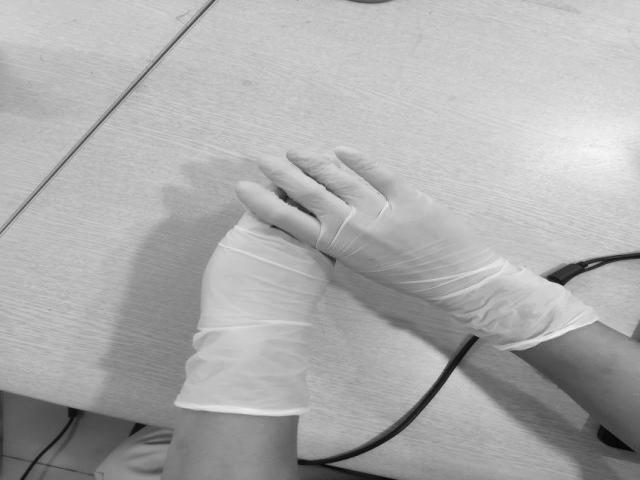gloved: (231, 141, 504, 262), (196, 164, 350, 308)
